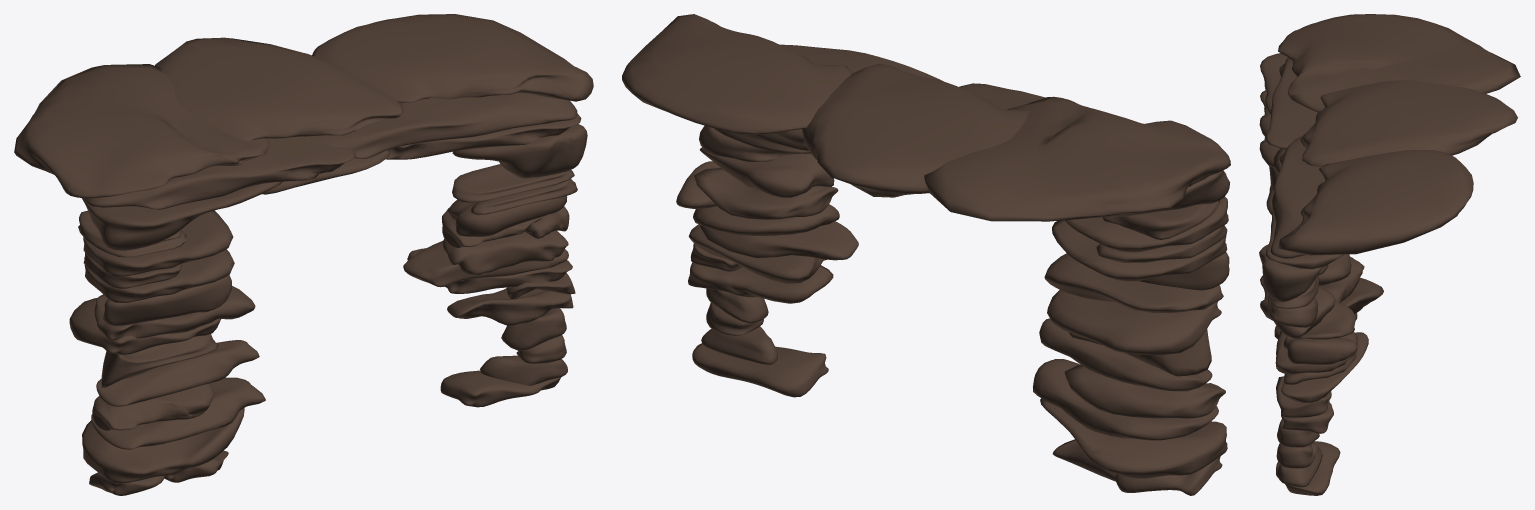
Rendered from wall_door01.fbx.
The picture shows the model from 3 angles, left to right: view 1: azimuth 30°, elevation 25°; view 2: azimuth 150°, elevation 25°; view 3: azimuth 270°, elevation 25°; orthographic projection. The views are drawn at different scales.
Visible parts, largest first — view 1: stal.176, stal.174, stal.175, stal.173, stal.172, stal.203, stal.167, stal.191, stal.197, stal.164, stal.168, stal.185 (+25 smaller); view 2: stal.176, stal.174, stal.175, stal.183, stal.203, stal.200, stal.184, stal.197, stal.191, stal.205, stal.186, stal.189 (+22 smaller); view 3: stal.175, stal.176, stal.174, stal.173, stal.172, stal.168, stal.187, stal.193, stal.186, stal.205, stal.185, stal.203 (+15 smaller).
Part boxes in pixels (x1,y1,x2,y2): stal.176: (14, 64, 270, 198); stal.174: (155, 37, 403, 140); stal.175: (312, 14, 593, 102); stal.173: (308, 92, 577, 158); stal.172: (83, 136, 355, 209); stal.203: (82, 408, 244, 483); stal.167: (82, 181, 282, 250); stal.191: (96, 340, 259, 406); stal.197: (91, 377, 265, 449); stal.164: (83, 210, 233, 276); stal.168: (452, 124, 587, 178); stal.185: (442, 230, 568, 274); stal.176: (924, 96, 1230, 221); stal.174: (802, 64, 1029, 197); stal.175: (622, 14, 853, 134); stal.183: (1047, 290, 1221, 355); stal.203: (1040, 398, 1227, 478); stal.200: (1064, 365, 1225, 418); stal.184: (1044, 253, 1223, 313); stal.197: (1033, 359, 1218, 440); stal.191: (1039, 318, 1212, 391); stal.205: (692, 343, 828, 397); stal.186: (694, 168, 838, 219); stal.189: (700, 221, 858, 260); stal.175: (1278, 150, 1473, 255); stal.176: (1278, 14, 1520, 112); stal.174: (1300, 80, 1517, 167); stal.173: (1270, 136, 1325, 258); stal.172: (1266, 57, 1317, 149); stal.168: (1259, 244, 1322, 301); stal.187: (1283, 336, 1358, 364); stal.193: (1281, 332, 1368, 402); stal.186: (1297, 301, 1355, 339); stal.205: (1276, 441, 1340, 495); stal.185: (1275, 330, 1357, 374); stal.203: (1260, 275, 1383, 320).
Bounding box in the file's own units: 6.73 × 4.1 × 3.36.
